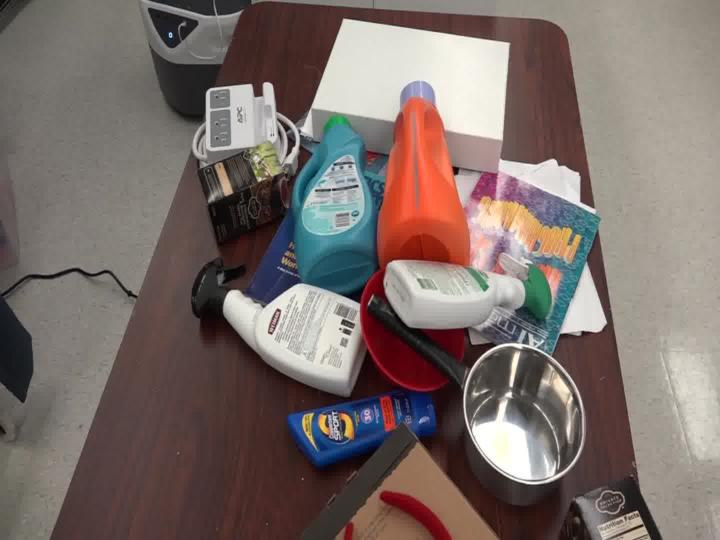downy: (282, 102, 384, 300)
